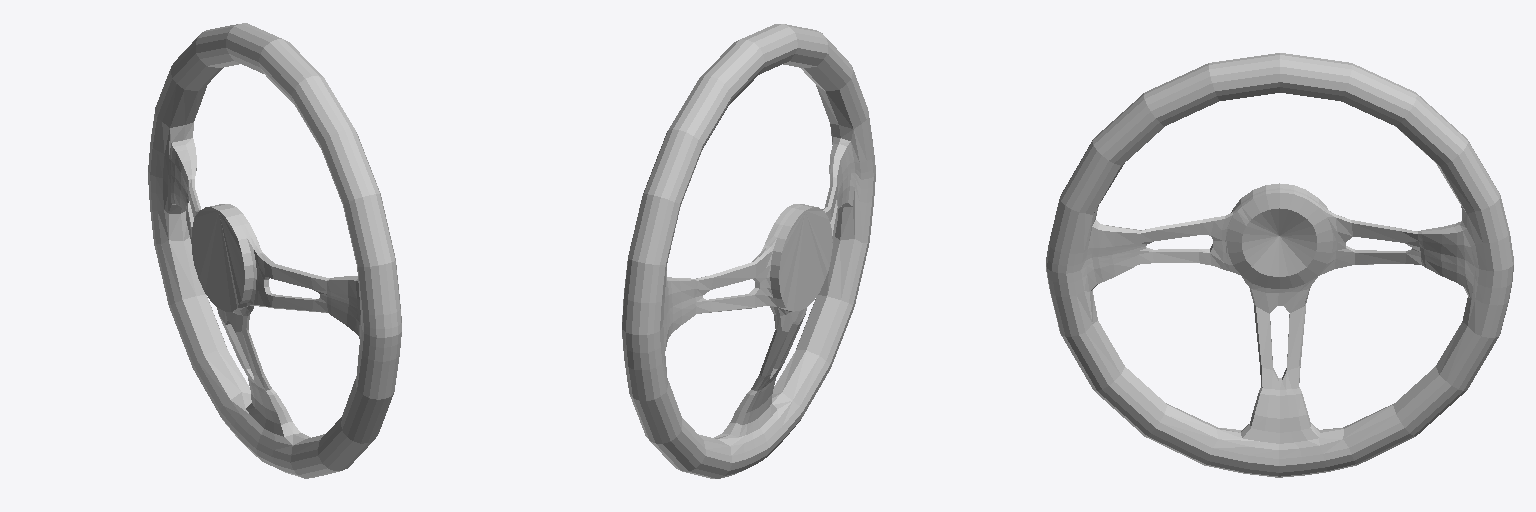
The model's file is rx7_steeringwheel.obj.
The picture shows the model from 3 angles: view 1: azimuth 30°, elevation 25°; view 2: azimuth 150°, elevation 25°; view 3: azimuth 270°, elevation 25°; orthographic projection.
Visible parts, largest first — view 1: rx7_steeringwheel; view 2: rx7_steeringwheel; view 3: rx7_steeringwheel.
Boxes of the visible parts, x1=… form: rx7_steeringwheel: x1=148, y1=23, x2=401, y2=478; rx7_steeringwheel: x1=622, y1=24, x2=875, y2=478; rx7_steeringwheel: x1=1046, y1=53, x2=1513, y2=477.
Bounding box in the file's own units: 8.45 × 44.33 × 44.58.